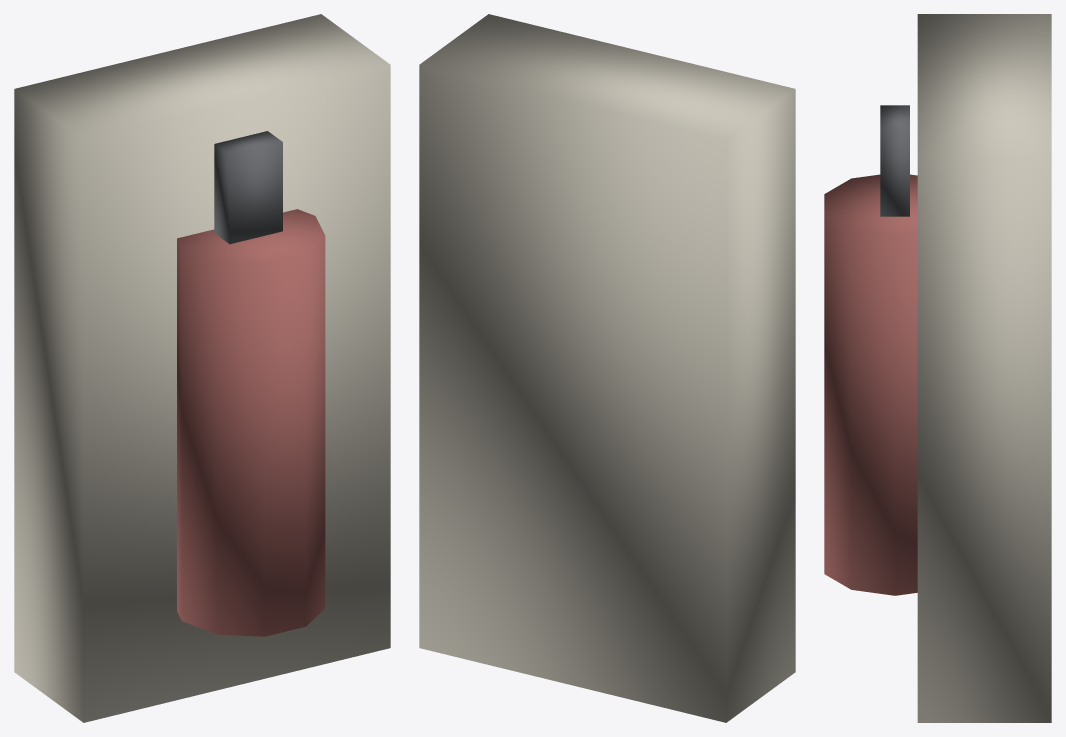
The model's file is extinguisher_cabinet__tall.glb.
3 views of the same model, side by side, from view 1: azimuth 30°, elevation 25°; view 2: azimuth 150°, elevation 25°; view 3: azimuth 270°, elevation 25° (orthographic). The views are drawn at different scales.
Visible parts, largest first — view 1: world; view 2: world; view 3: world.
Part boxes in pixels (x1=…): world: x1=14, y1=14, x2=390, y2=722; world: x1=419, y1=14, x2=795, y2=722; world: x1=824, y1=14, x2=1051, y2=722.
Size of the model in its own units: 0.46 by 0.8352 by 0.3051.
